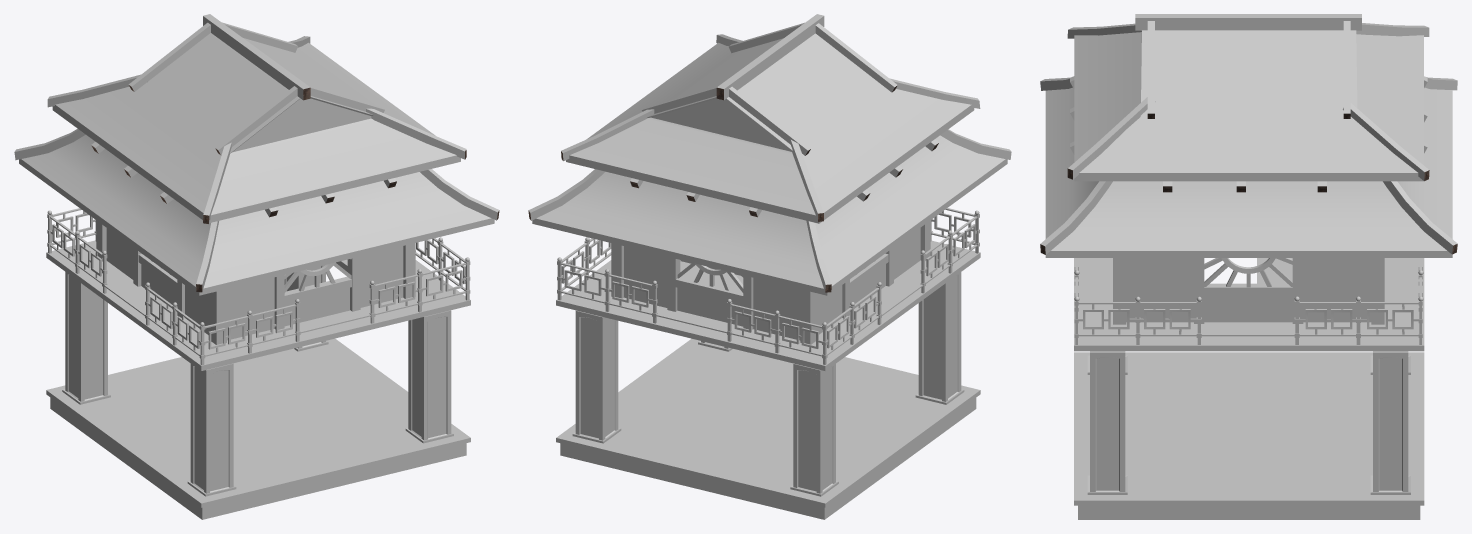
The model's file is garden building.fbx.
3 renders of one model, left to right at view 1: azimuth 30°, elevation 25°; view 2: azimuth 150°, elevation 25°; view 3: azimuth 270°, elevation 25°, orthographic. The views are drawn at different scales.
Visible parts, largest first — view 1: polySurface488; view 2: polySurface488; view 3: polySurface488.
Part boxes in pixels (left/top/right/bottom): polySurface488: left=14, top=14, right=499, bottom=519; polySurface488: left=528, top=14, right=1011, bottom=519; polySurface488: left=1040, top=14, right=1457, bottom=519.
Bounding box in the file's own units: 11.2 × 13.4 × 11.8.
